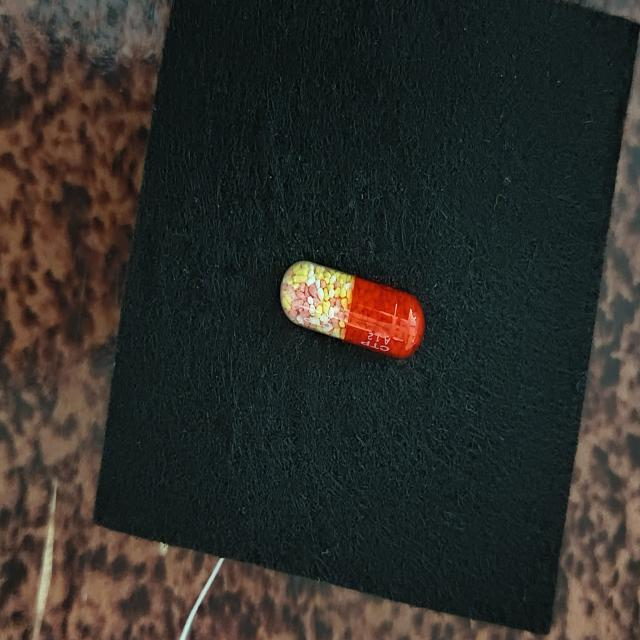Intact Capsule: (280, 261, 425, 358)
